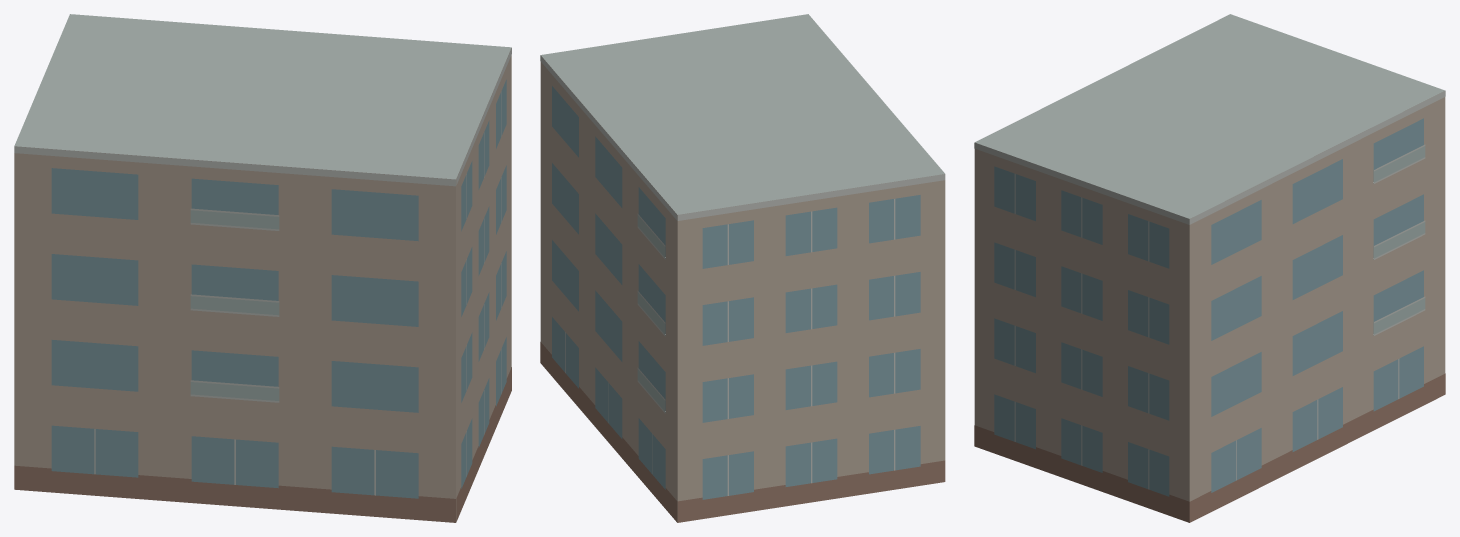
File: residential-be32c504-27c7-449e-b920-1fcae0652a39.glb
3 views of the same model, side by side, from view 1: azimuth 30°, elevation 25°; view 2: azimuth 150°, elevation 25°; view 3: azimuth 270°, elevation 25° (orthographic). The views are drawn at different scales.
Visible parts, largest first — view 1: residential-be32c504-27c7-449e-b920-1fcae0652a39.tmp; view 2: residential-be32c504-27c7-449e-b920-1fcae0652a39.tmp; view 3: residential-be32c504-27c7-449e-b920-1fcae0652a39.tmp.
Part boxes in pixels (x1,y1,x2,y2): residential-be32c504-27c7-449e-b920-1fcae0652a39.tmp: (14, 14, 511, 522); residential-be32c504-27c7-449e-b920-1fcae0652a39.tmp: (540, 14, 945, 522); residential-be32c504-27c7-449e-b920-1fcae0652a39.tmp: (974, 14, 1445, 522).
Bounding box in the file's own units: 17.65 × 12.2 × 17.14.
